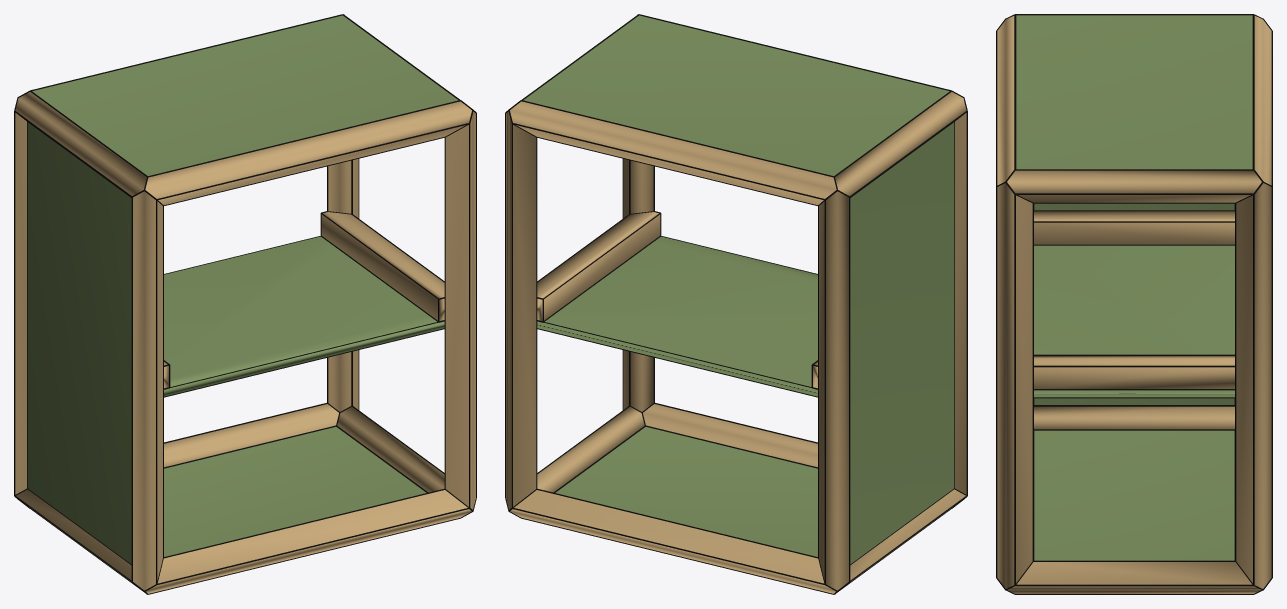
Rendered from buffet-600.glb.
The picture shows the model from 3 angles, left to right: view 1: azimuth 30°, elevation 25°; view 2: azimuth 150°, elevation 25°; view 3: azimuth 270°, elevation 25°; orthographic projection.
Parts seen in each view (by area): view 1: panneau-joue1, panneau-dessus_exterieur, tablette-plate-mod-0, panneau-dessous, arete-Z0, arete-Z1, arete-X2, arete-X0, tablette-traverse-right-mod-0, arete-Z2, arete-X1, arete-Y2 (+13 smaller); view 2: panneau-joue1, panneau-dessus_exterieur, tablette-plate-mod-0, panneau-dessous, arete-Z2, arete-Z3, arete-X3, arete-X1, tablette-traverse-right-mod-0, arete-Z0, arete-X0, arete-Y2 (+14 smaller); view 3: panneau-dessus_exterieur, panneau-dessous, tablette-plate-mod-0, arete-Z1, arete-Z3, arete-Y3, arete-Y1, tablette-traverse-left-mod-0, tablette-traverse-right-mod-0, arete-Y0, panneau-joue1, arete-X2 (+13 smaller).
Part boxes in pixels (x1,y1,x2,y2): panneau-joue1: (27, 122, 131, 563); panneau-dessus_exterieur: (32, 15, 458, 175); tablette-plate-mod-0: (164, 236, 444, 396); panneau-dessous: (164, 427, 426, 556); arete-Z0: (133, 191, 162, 590); arete-Z1: (445, 111, 475, 509); arete-X2: (145, 101, 471, 205); arete-X0: (146, 490, 471, 593); tablette-traverse-right-mod-0: (321, 212, 444, 320); arete-Z2: (15, 113, 26, 494); arete-X1: (164, 404, 338, 467); arete-Y2: (15, 92, 146, 195); panneau-joue1: (850, 122, 954, 563); panneau-dessus_exterieur: (523, 15, 949, 175); tablette-plate-mod-0: (537, 236, 817, 396); panneau-dessous: (555, 427, 817, 556); arete-Z2: (819, 191, 848, 590); arete-Z3: (506, 111, 536, 509); arete-X3: (510, 101, 836, 205); arete-X1: (510, 490, 835, 593); tablette-traverse-right-mod-0: (537, 212, 660, 320); arete-Z0: (955, 113, 966, 494); arete-X0: (643, 404, 817, 467); arete-Y2: (835, 92, 966, 195); panneau-dessus_exterieur: (1016, 15, 1252, 169); panneau-dessous: (1034, 430, 1234, 560); tablette-plate-mod-0: (1034, 245, 1234, 397); arete-Z1: (997, 183, 1032, 588); arete-Z3: (1236, 183, 1271, 588); arete-Y3: (1007, 170, 1261, 202); arete-Y1: (1007, 562, 1261, 593); tablette-traverse-left-mod-0: (1034, 211, 1234, 244); tablette-traverse-right-mod-0: (1034, 356, 1234, 388); arete-Y0: (1034, 406, 1234, 429); panneau-joue1: (1034, 203, 1234, 404); arete-X2: (997, 16, 1014, 185).
Bounding box in the file's own units: 0.6309 × 0.7309 × 0.4309.
